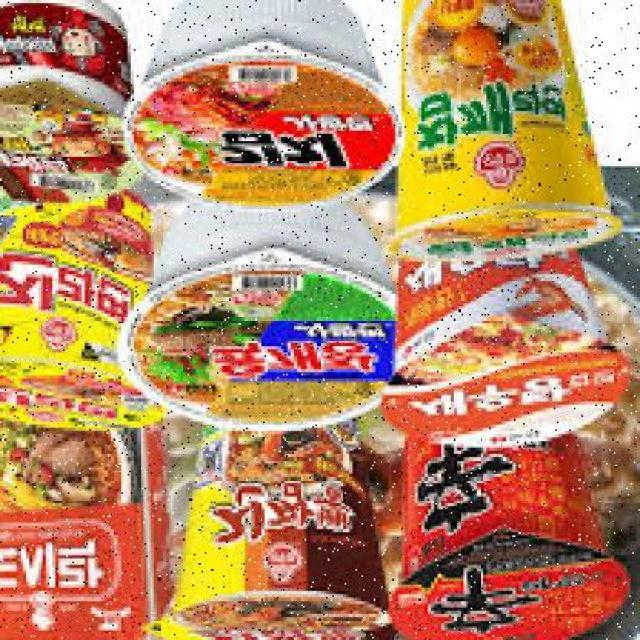Miscellaneous: (109, 198, 422, 434), (376, 188, 636, 444), (126, 0, 411, 223), (156, 395, 409, 640), (385, 0, 610, 262), (388, 398, 627, 640), (0, 177, 163, 426), (0, 1, 157, 202)
